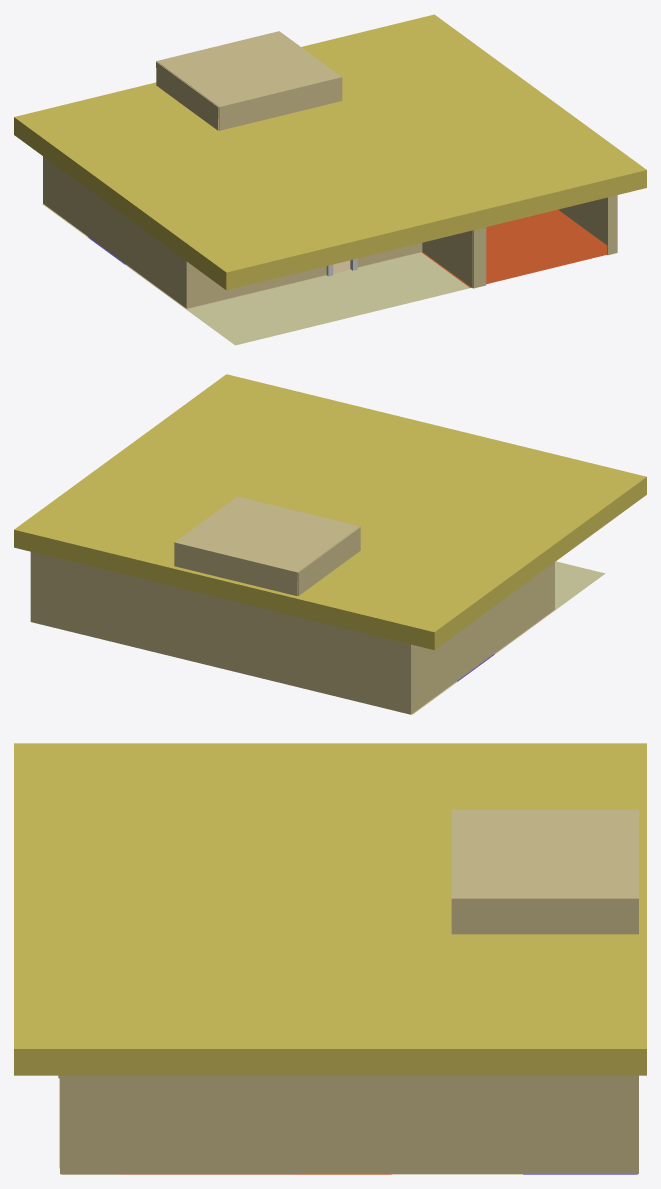
File: rumah udah bolong.fbx
The picture shows the model from 3 angles, top to bottom: view 1: azimuth 30°, elevation 25°; view 2: azimuth 150°, elevation 25°; view 3: azimuth 270°, elevation 25°; orthographic projection. The views are drawn at different scales.
Parts seen in each view (by area): view 1: Plane.002, Plane, Plane.001; view 2: Plane.002, Plane, Plane.001; view 3: Plane.002, Plane.
Part boxes in pixels (x1=…): Plane.002: x1=14, y1=14, x2=646, y2=290; Plane: x1=43, y1=31, x2=617, y2=308; Plane.001: x1=42, y1=204, x2=607, y2=345; Plane.002: x1=14, y1=374, x2=646, y2=649; Plane: x1=30, y1=496, x2=554, y2=714; Plane.001: x1=411, y1=561, x2=605, y2=714; Plane.002: x1=14, y1=743, x2=646, y2=1075; Plane: x1=58, y1=809, x2=638, y2=1174.
Bounding box in the file's own units: 1727 × 451 × 1512.
